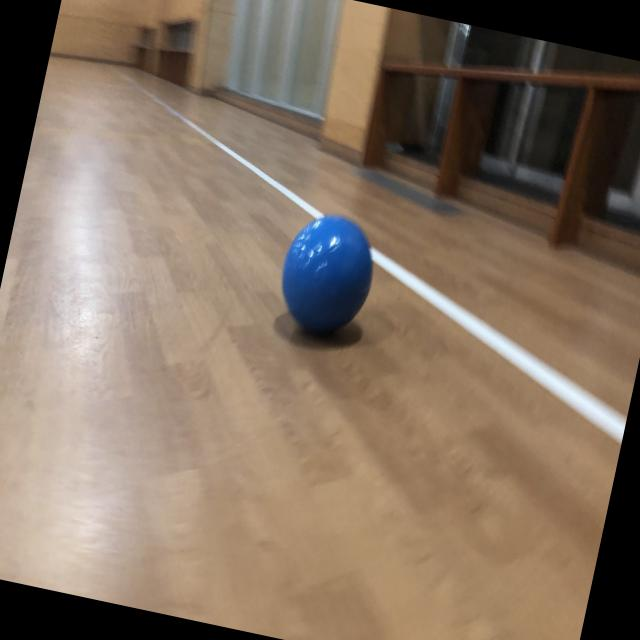blue_ball: (274, 208, 384, 342)
